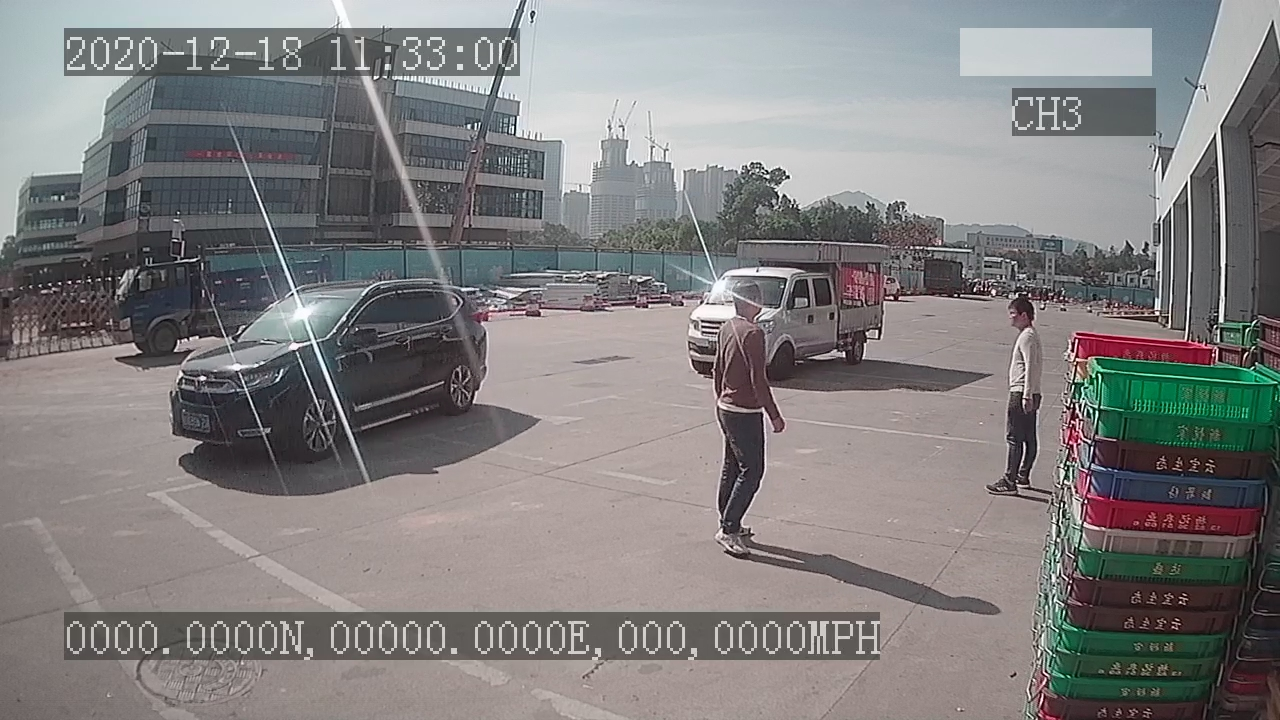person: (983, 292, 1051, 502)
